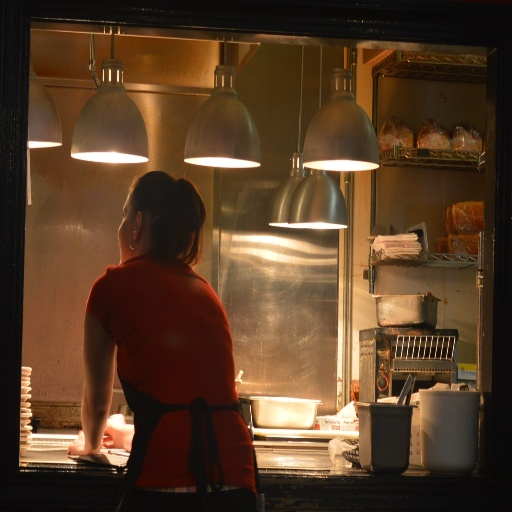hand: (65, 430, 102, 456), (105, 413, 125, 449)
